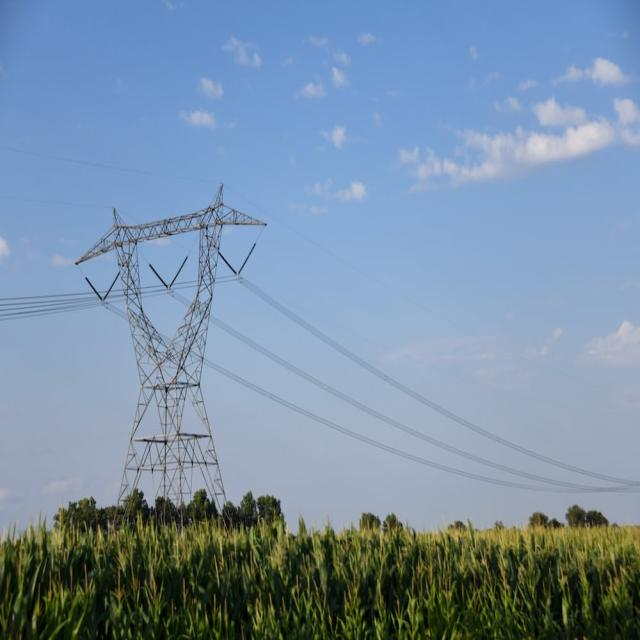transmission tower: (56, 159, 348, 555)
